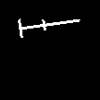double_crochet: (18, 19, 78, 37)
